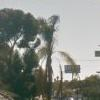Palm tree: (37, 13, 68, 98)
